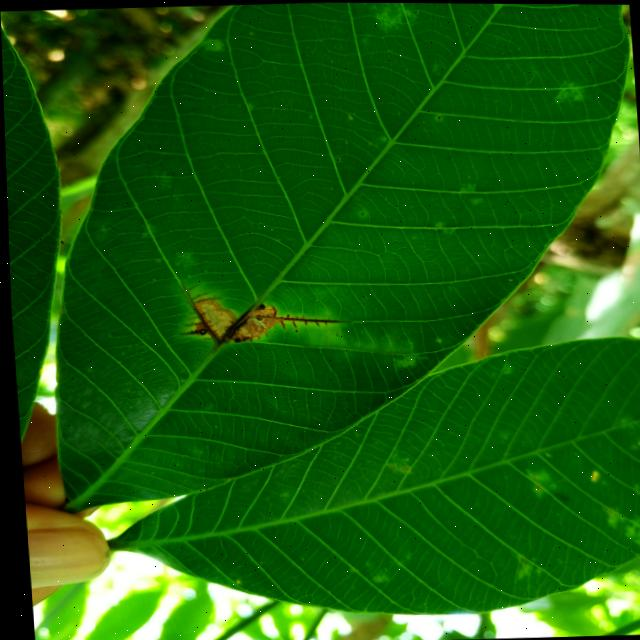Colletotrichum: (436, 116, 439, 119), (335, 158, 337, 160)
Corynespora: (173, 283, 221, 341), (264, 300, 351, 330)
Leaf-Blight: (229, 306, 281, 340), (193, 299, 233, 336)
